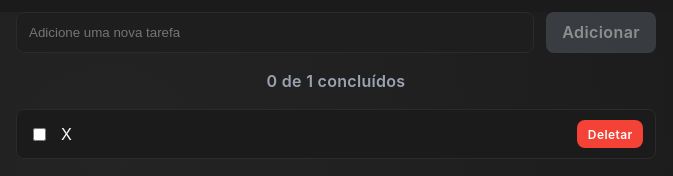
Scenario: TodoList - Testes de Fluxo de Controle › Caminho toggleTodo: alternância de completed › deve alternar completed de false→true e atualizar estatísticas
Click the checkbox with test id "todo-checkbox-1" at [40, 134], box [33,128,46,141]
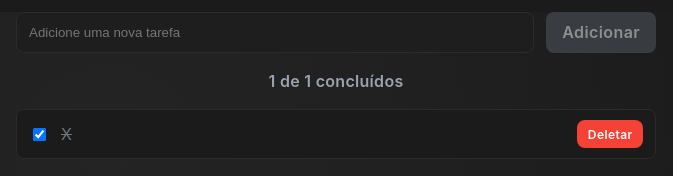
Expected: the checkbox with test id "todo-checkbox-1" is checked, [33,128,46,141]
Expected: the text with test id "todo-stats" reads "1 de 1 concluídos", [268,71,404,91]
